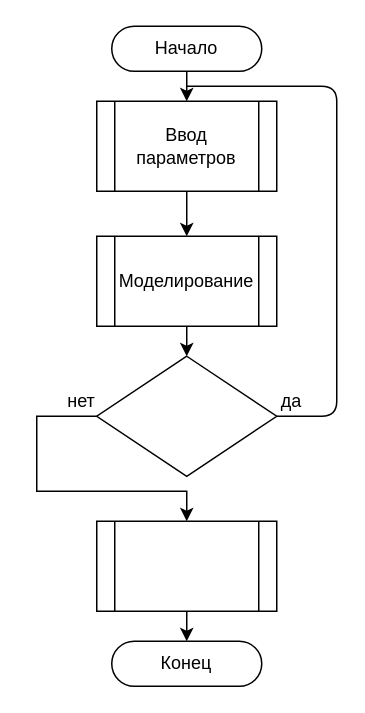
The diagram is 365 pixels wide and 713 high, and some of its shapes have lost their labels. The box of each missing label's shape, as (x1, y1, x2, y2) in pixels:
Вывод результатов: (95, 520, 277, 611)
Повтор: (95, 355, 277, 476)
